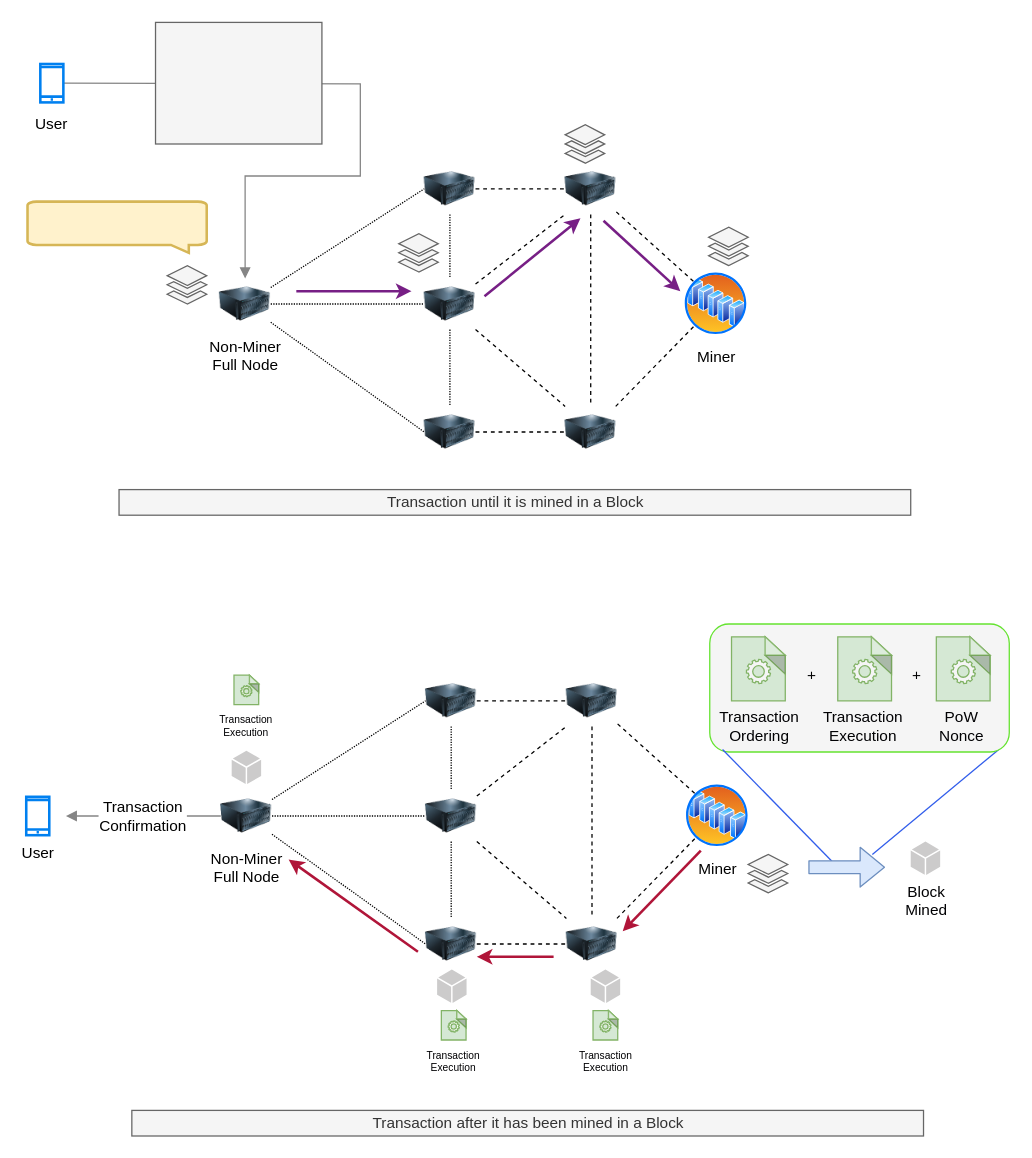
This 1032x1158 diagram has some shape labels left out. The shapes that lost their labels are listed below. From the top down, each one's box as (x1, y1, x2, y2) in pixels, then its label:
(154, 21, 322, 144): { to: ___, gasPrice:___, gasLimit: ___, value: ___, data: ___, }
(26, 200, 207, 253): Transaction Pool
